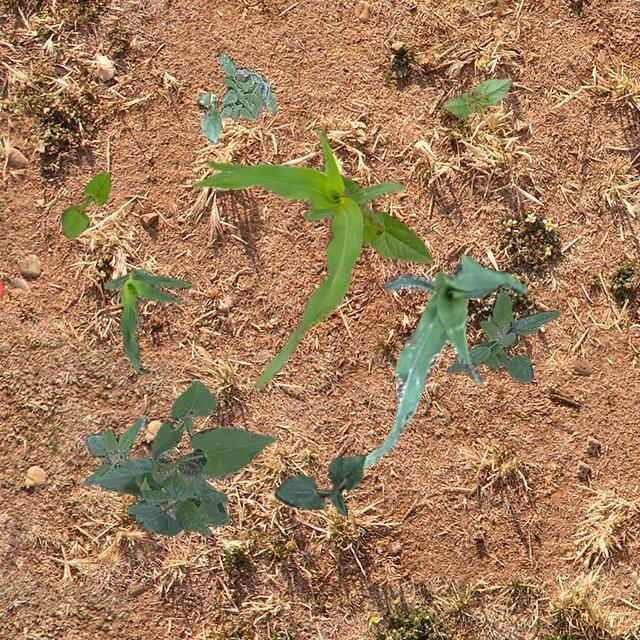crop: (190, 130, 404, 390), (362, 254, 526, 466), (92, 380, 274, 534), (319, 164, 432, 264), (102, 267, 192, 373), (274, 454, 364, 514), (62, 172, 110, 238), (442, 76, 512, 116), (196, 90, 222, 144)
weed: (446, 288, 558, 382), (84, 416, 146, 490), (216, 53, 276, 119)
